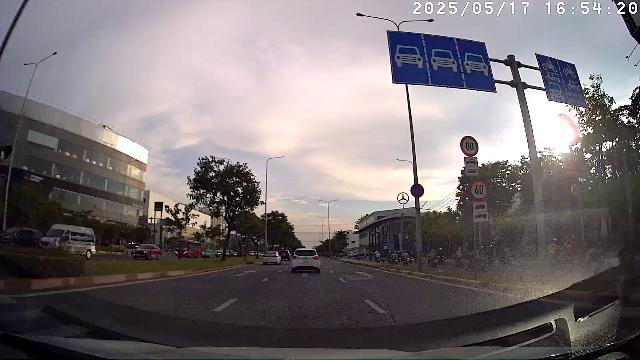127-toc-do-toi-da-60: (468, 179, 489, 200)
127-toc-do-toi-da-80: (460, 135, 479, 156)
